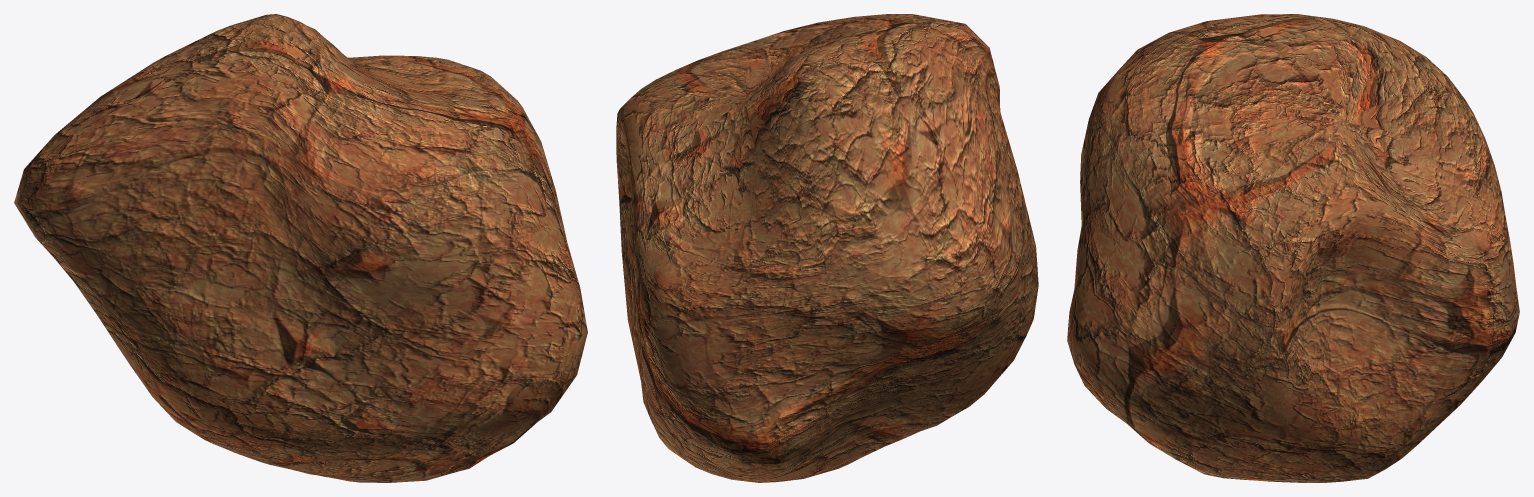
Rendered from Meteoro_M.obj.
3 views of the same model, side by side, from view 1: azimuth 30°, elevation 25°; view 2: azimuth 150°, elevation 25°; view 3: azimuth 270°, elevation 25° (orthographic). The views are drawn at different scales.
Parts seen in each view (by area): view 1: Sphere001; view 2: Sphere001; view 3: Sphere001.
Boxes of the visible parts, x1,y1,x2,y2 form: Sphere001: (14,14,587,482); Sphere001: (616,14,1038,482); Sphere001: (1067,14,1519,482).
Bounding box in the file's own units: 20.99 × 19.84 × 19.93.
1 material, 1 textured.
